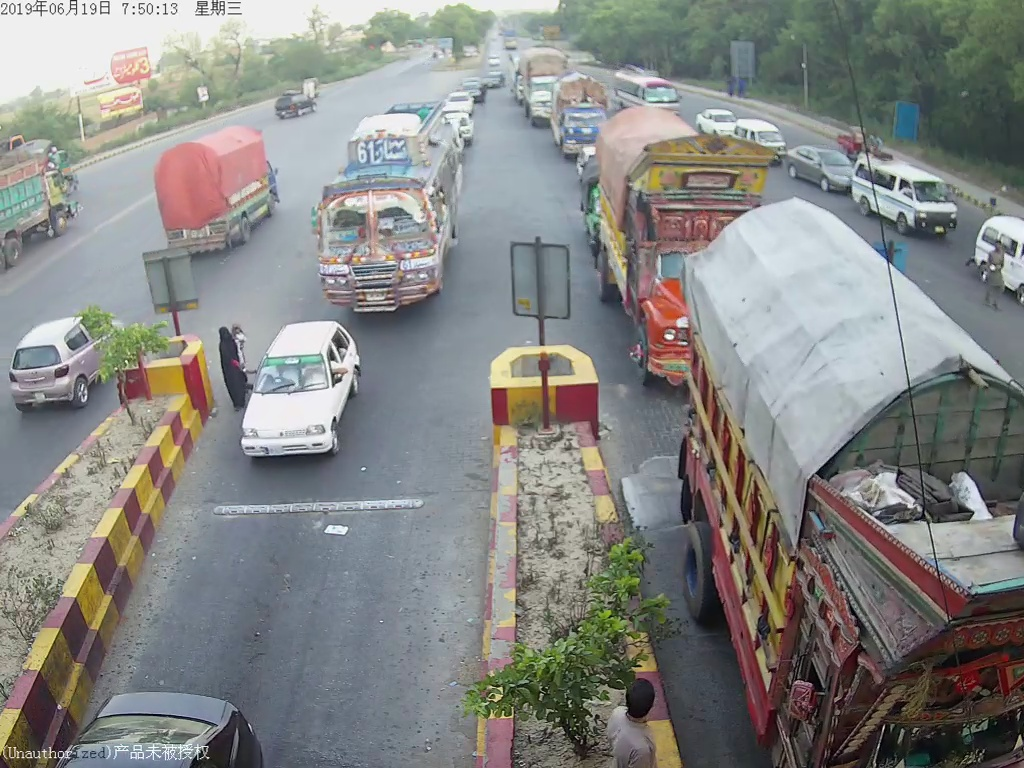Cat-1: (235, 317, 361, 460)
Cat-3: (322, 99, 465, 312)
Cat-4: (602, 109, 764, 381)
